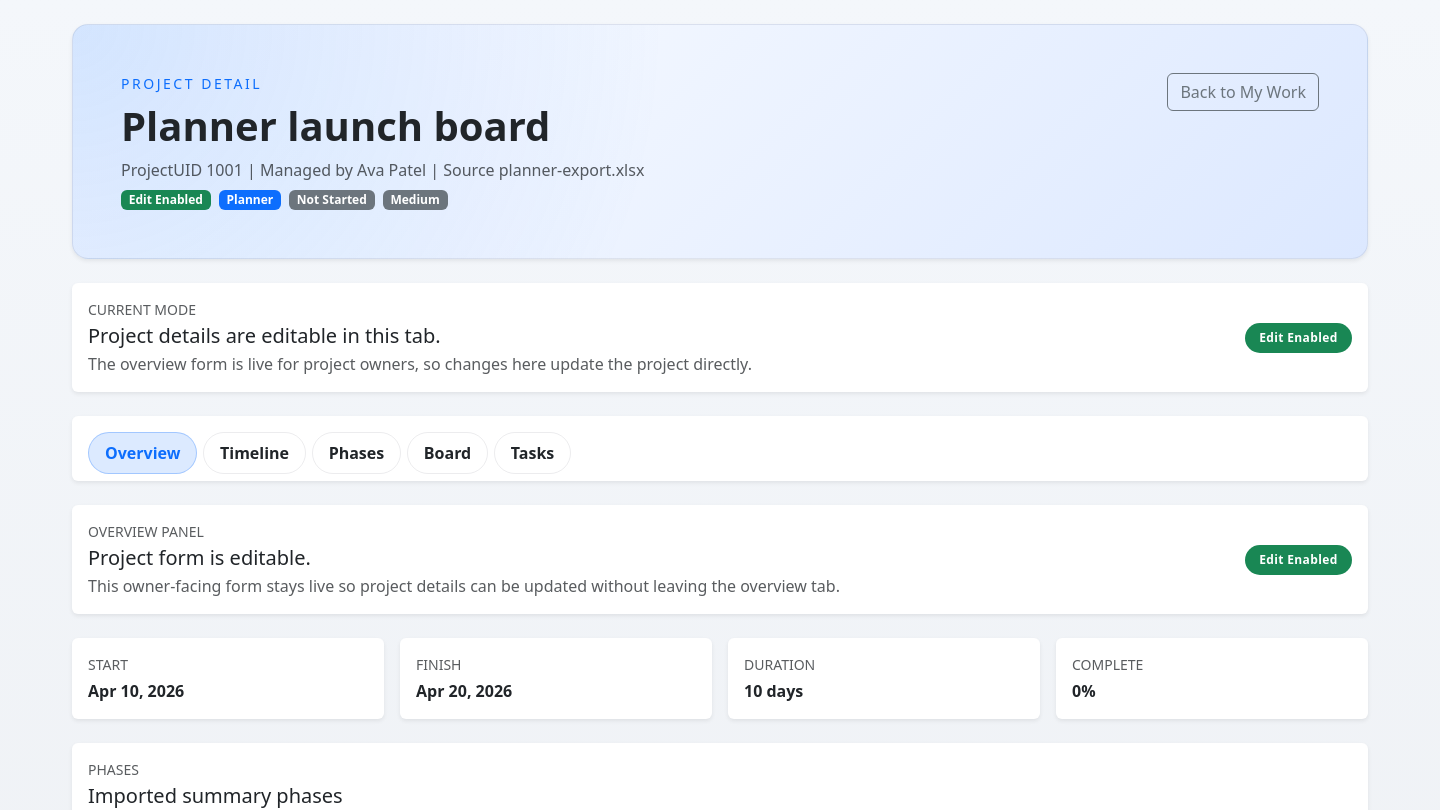
Test case: ProjectDetailPage › shows the phases tab when summary phase data exists
Click the button "Phases": (356, 453) [312, 432, 401, 474]
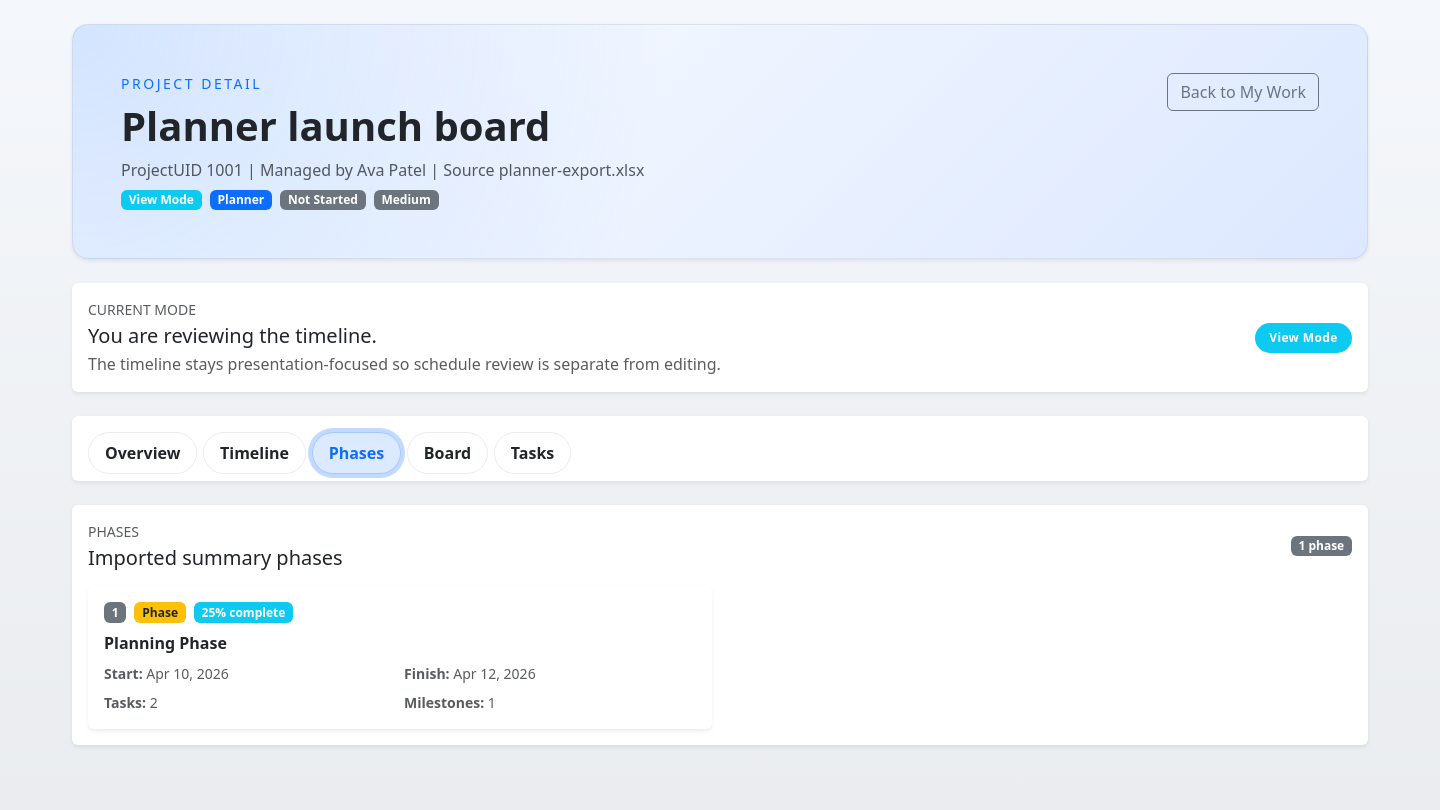
Check: the text "25% complete" is shown, box [194, 602, 293, 623]
Check: the text "Tasks:" is shown, box [104, 693, 146, 712]
Check: the text "Milestones:" is shown, box [404, 693, 484, 712]
